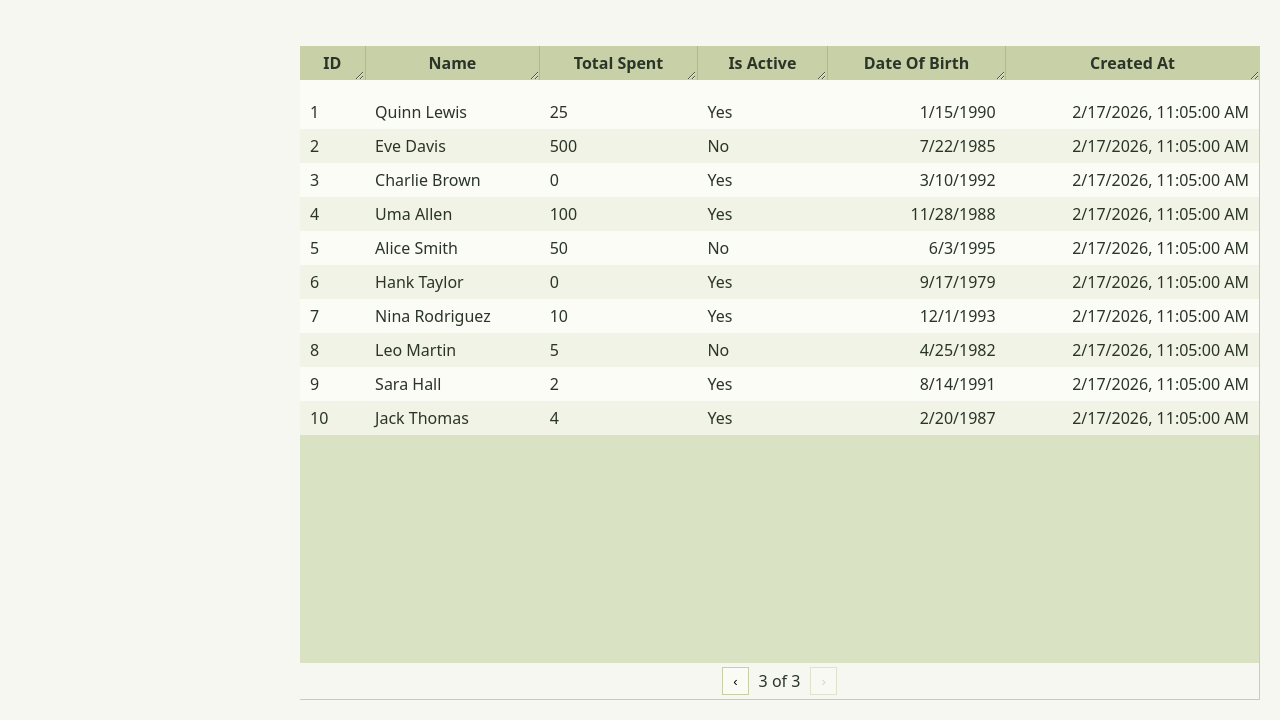
Test: Table › resets to the first page when a header is clicked
The image size is (1280, 720).
Check: the text "3 of 3" is shown, box [759,669,800,693]
Click the button "Name": click(452, 63) [365,46,540,80]
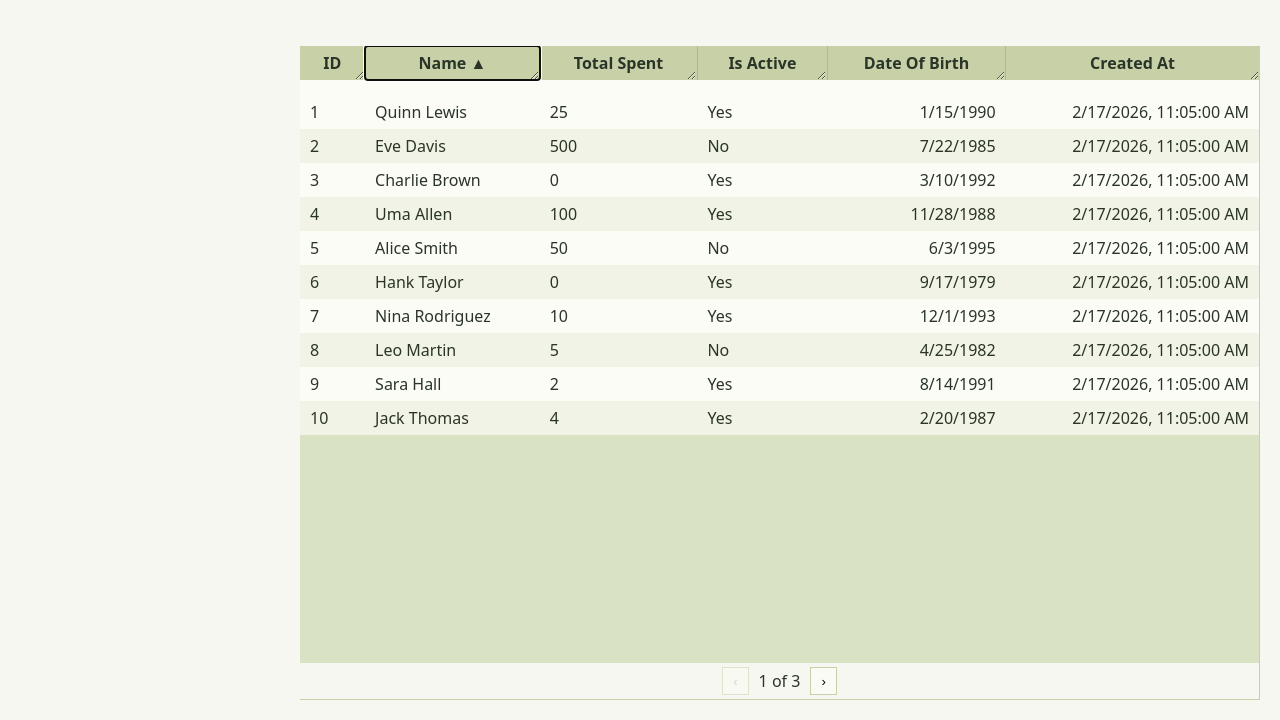
Check: the text "1 of 3" is shown, box [759,669,800,693]
